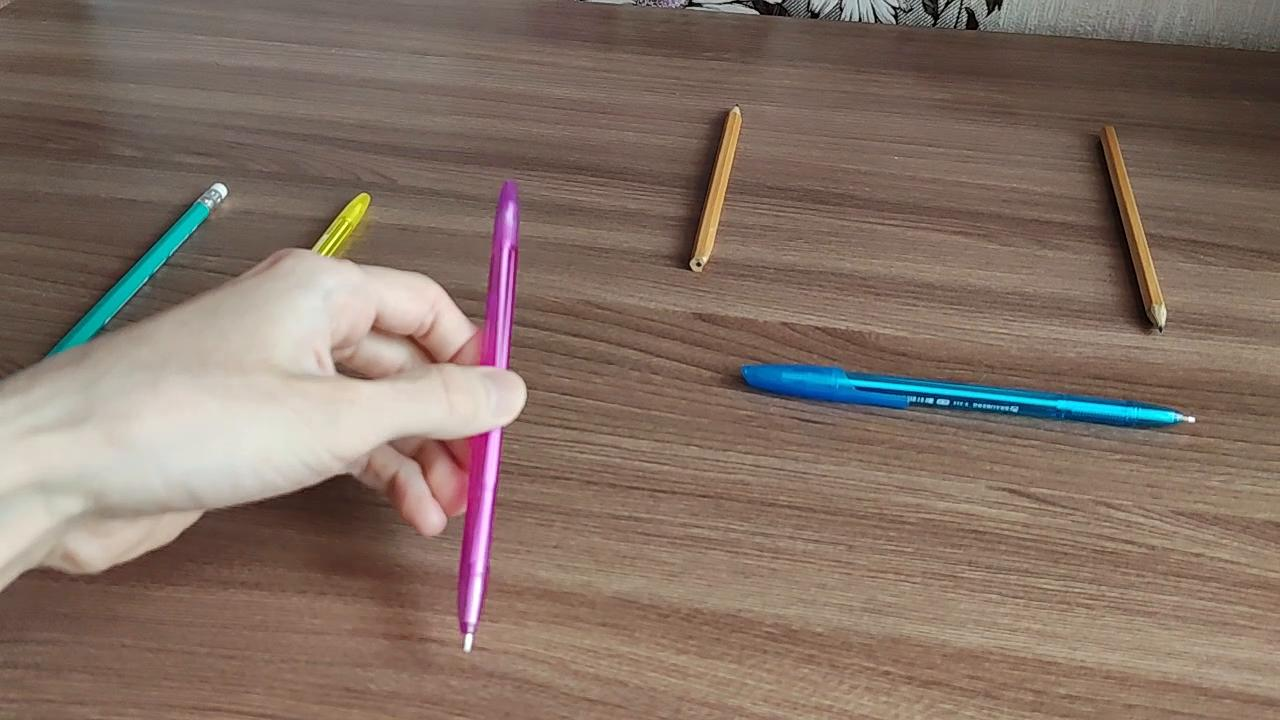pen: (456, 177, 526, 658), (731, 360, 1203, 430), (306, 186, 380, 267)
pencil: (48, 172, 236, 363), (1094, 123, 1171, 340), (685, 97, 750, 281)
